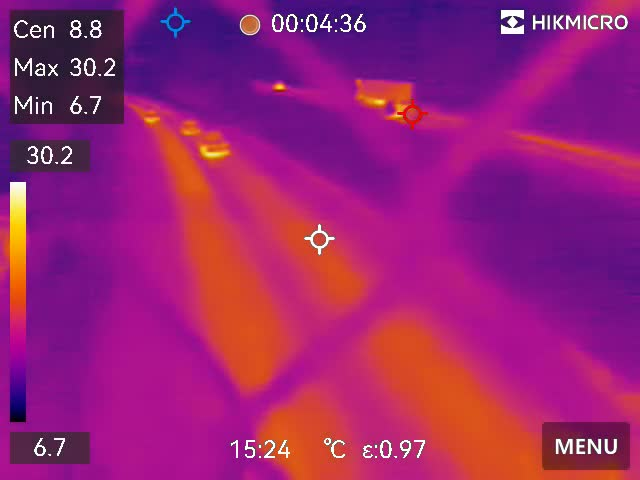heavyTruck: (347, 74, 417, 110)
